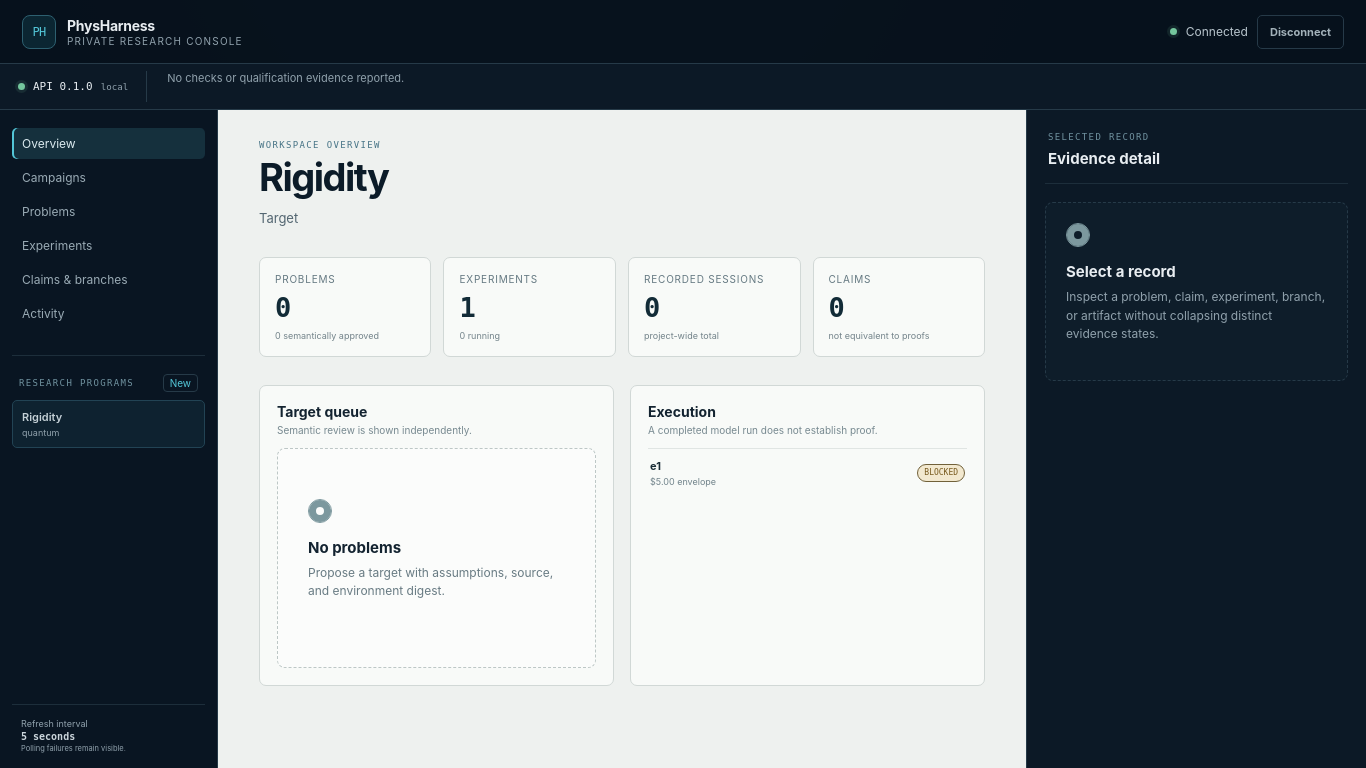
allows resume and cancellation of blocked experiments
Click the button with aria-label "open experiment rigidity": (695, 481) top-left (648, 448), bottom-right (967, 497)
(page scrolled)
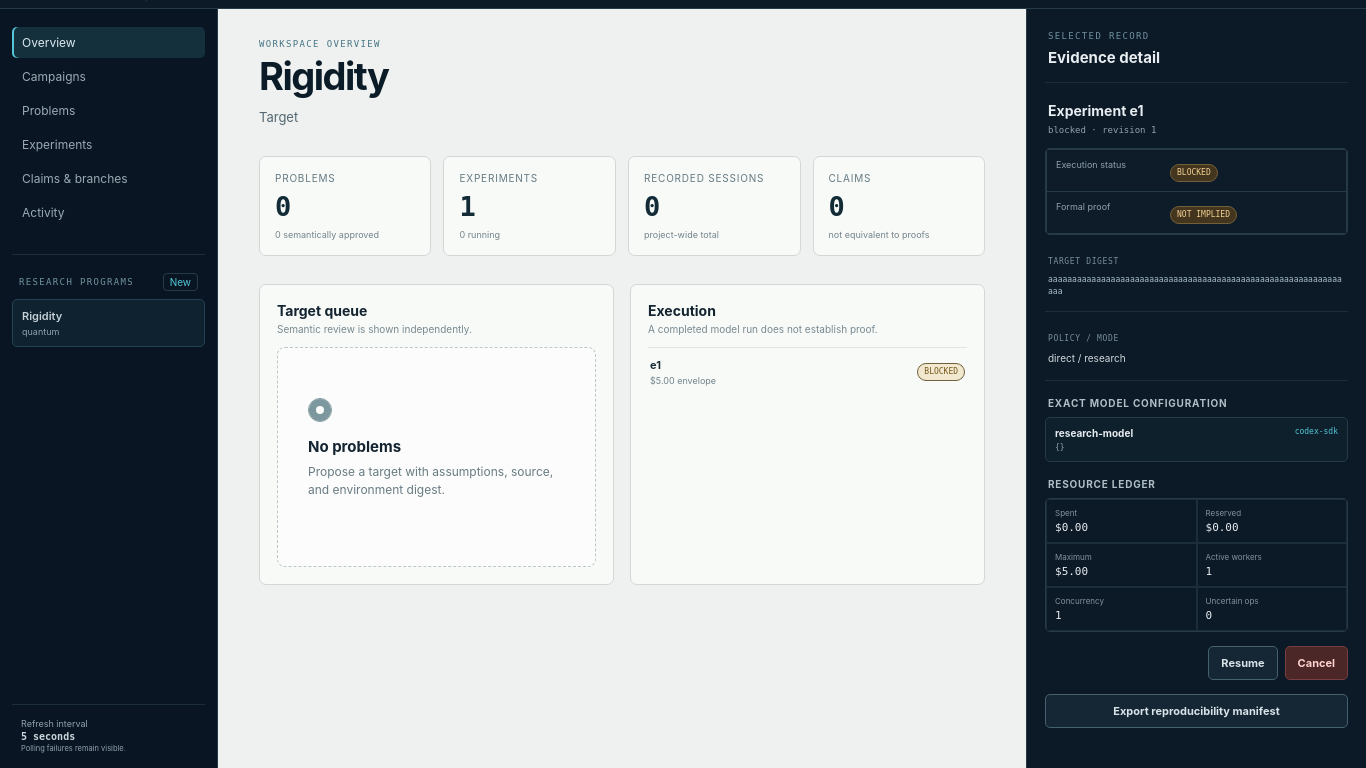
Check: the button with aria-label "resume experiment" is shown, box top-left (1208, 646), bottom-right (1278, 680)
Check: the button with aria-label "cancel experiment" is shown, box top-left (1285, 646), bottom-right (1348, 680)
